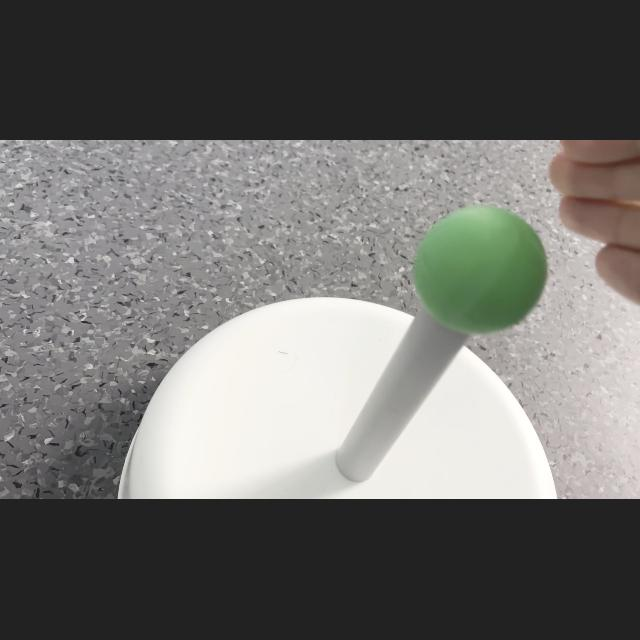objects: (409, 200, 553, 336)
